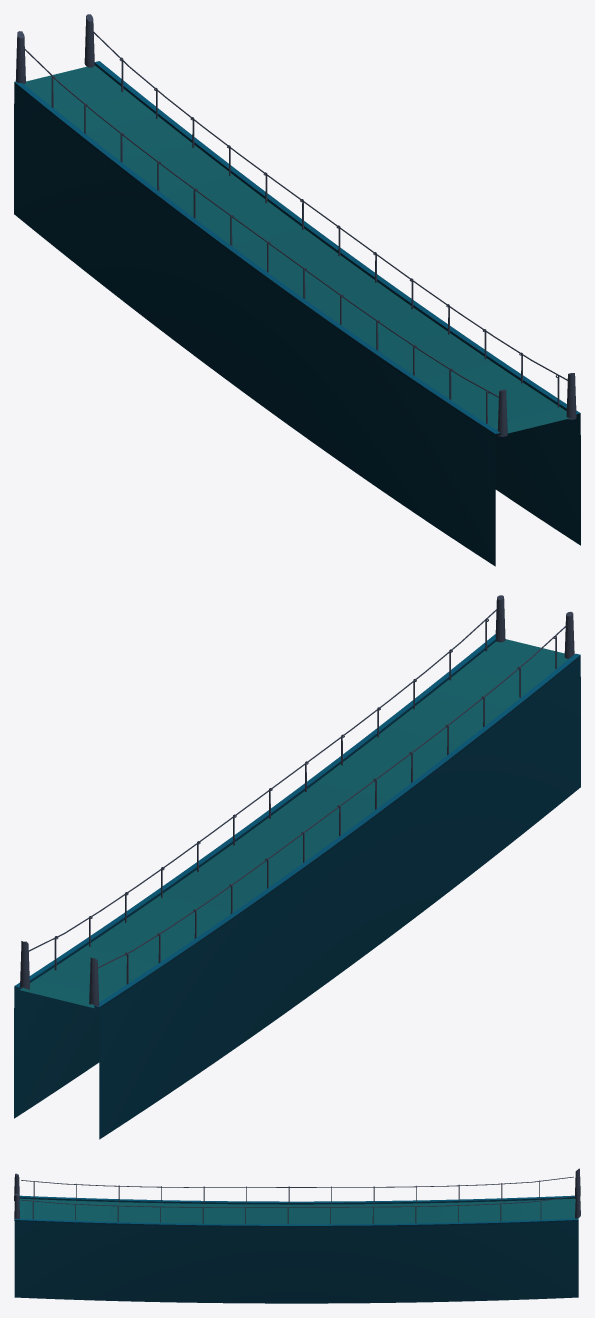
File: F_Scene_bridge_1.FBX
The picture shows the model from 3 angles, top to bottom: view 1: azimuth 30°, elevation 25°; view 2: azimuth 150°, elevation 25°; view 3: azimuth 270°, elevation 25°; orthographic projection. The views are drawn at different scales.
Parts seen in each view (by area): view 1: F_Scene_bridge_1; view 2: F_Scene_bridge_1; view 3: F_Scene_bridge_1.
Boxes of the visible parts, bbox=[...] form: F_Scene_bridge_1: bbox=[14, 14, 580, 566]; F_Scene_bridge_1: bbox=[14, 595, 580, 1139]; F_Scene_bridge_1: bbox=[14, 1168, 580, 1303].
Bounding box in the file's own units: 190 × 407 × 1868.
